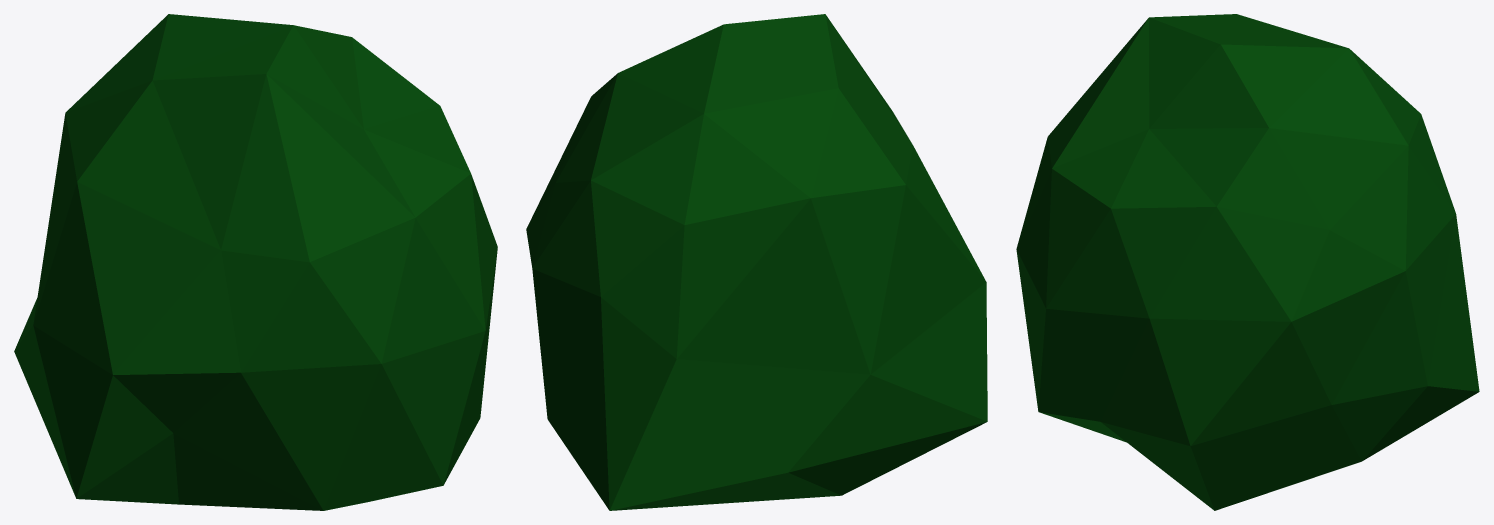
Rendered from RW_bush_standard_1.fbx.
3 renders of one model, left to right at view 1: azimuth 30°, elevation 25°; view 2: azimuth 150°, elevation 25°; view 3: azimuth 270°, elevation 25°, orthographic. The views are drawn at different scales.
Parts seen in each view (by area): view 1: Icosphere.095; view 2: Icosphere.095; view 3: Icosphere.095.
Boxes of the visible parts, x1=… form: Icosphere.095: x1=14, y1=14, x2=497, y2=510; Icosphere.095: x1=526, y1=14, x2=987, y2=510; Icosphere.095: x1=1016, y1=14, x2=1479, y2=510.
Size of the model in its own units: 2.34 by 2.52 by 2.53.
